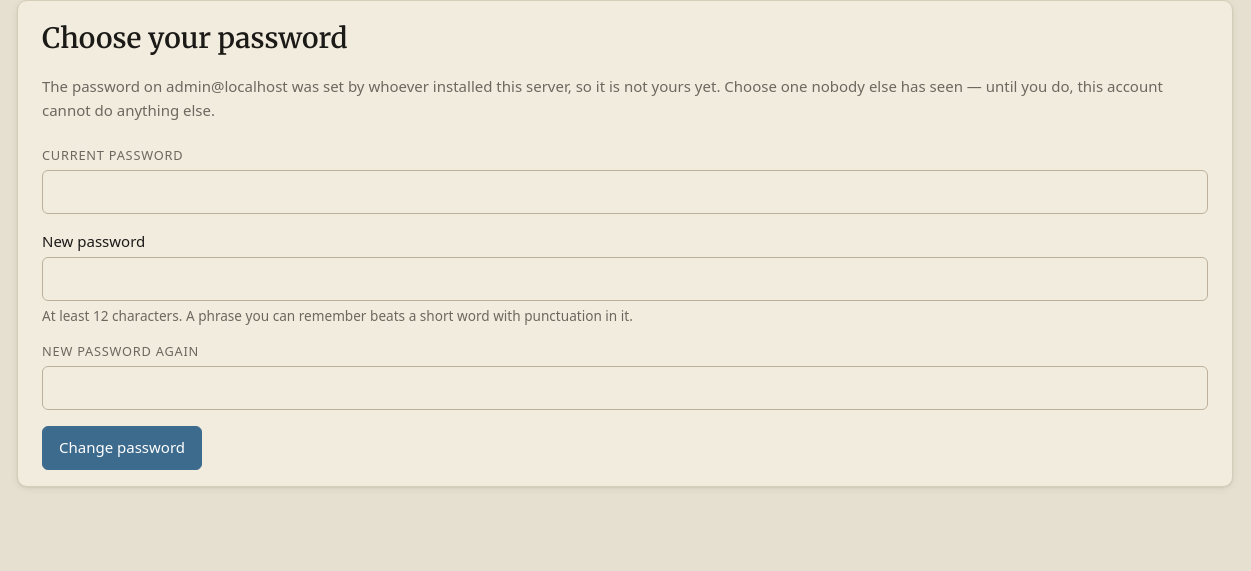
Test case: checks that cost a keystroke instead of a round trip › catches a password too short to be accepted anyway
Type "admin" into the password field labelled "Current password".
click(625, 192); type("admin")  # box [42,170,1208,214]
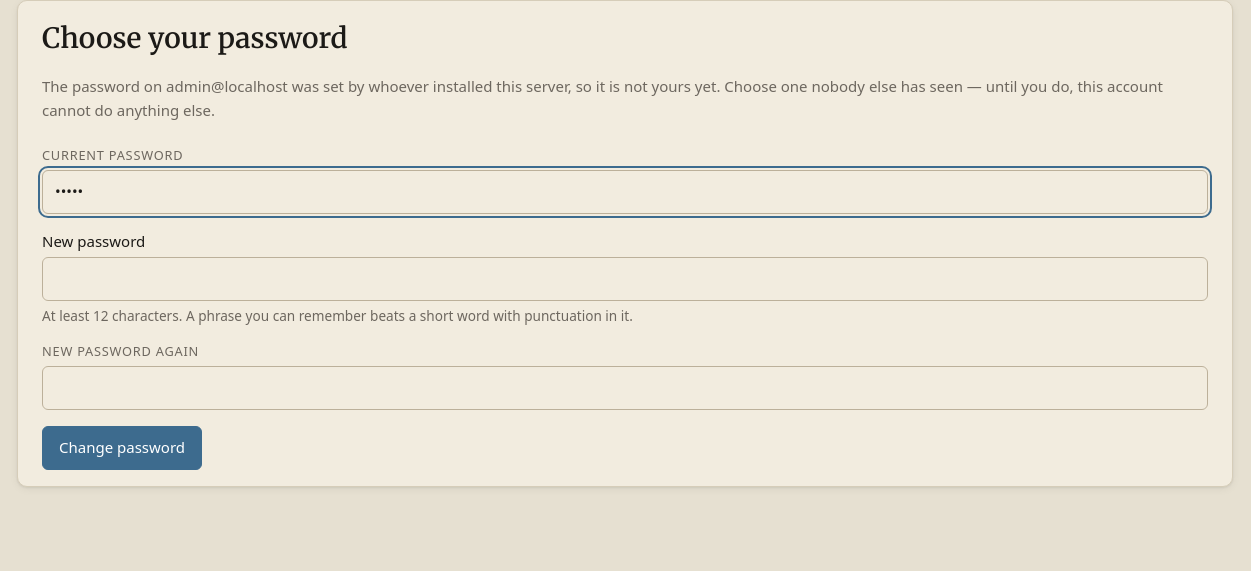
Type "hunter2" into the password field labelled "New password".
click(625, 279); type("hunter2")  # box [42,257,1208,301]
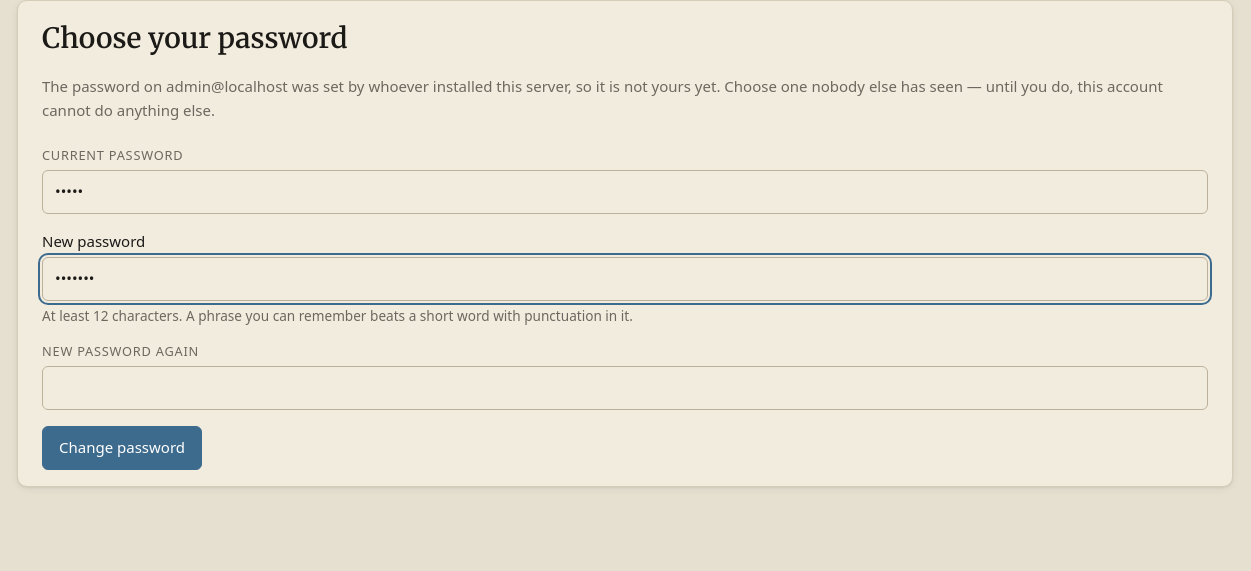
Type "hunter2" into the password field labelled "New password again".
click(625, 388); type("hunter2")  # box [42,366,1208,410]
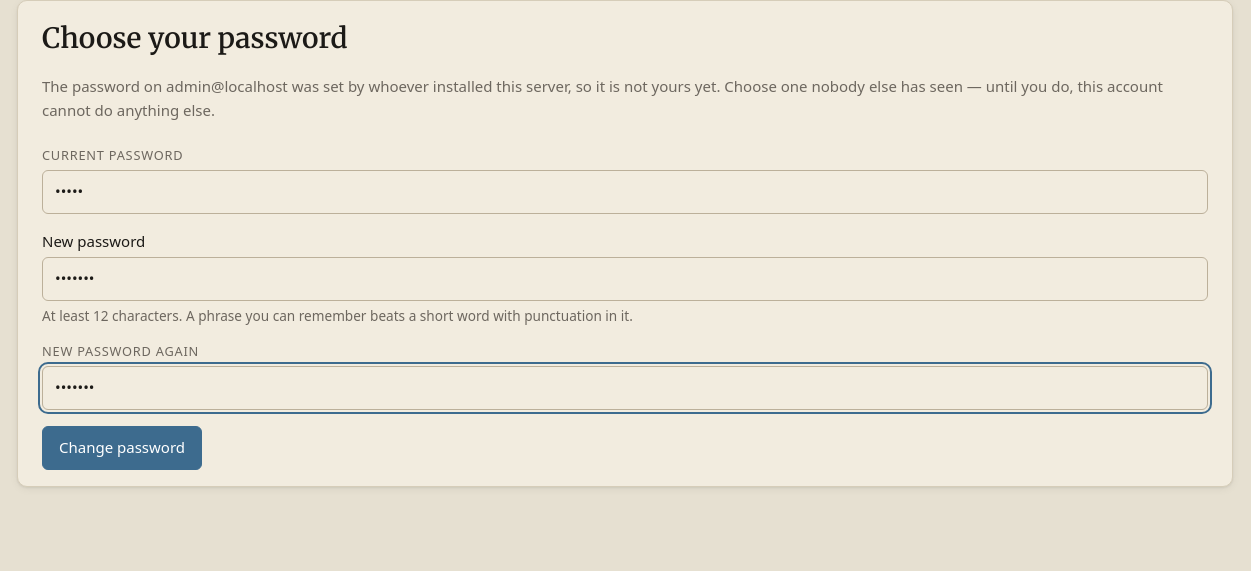
Click the button "Change password".
click(122, 448)  # box [42,426,202,470]
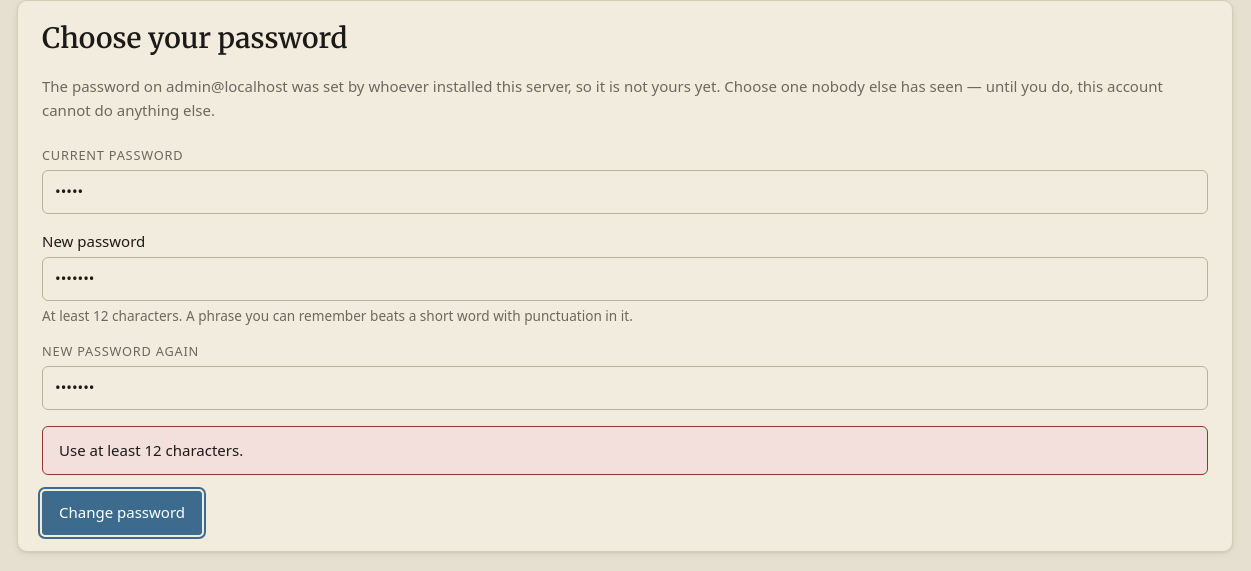
Expected: the message shows "at least 12 characters", [59,440,243,460]
